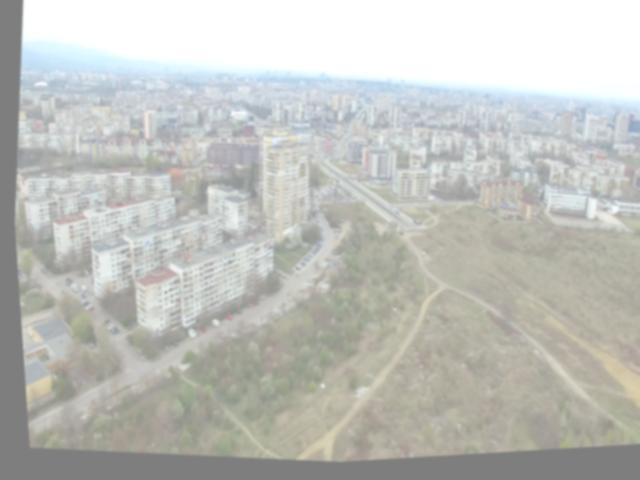plane: (279, 227, 295, 242)
